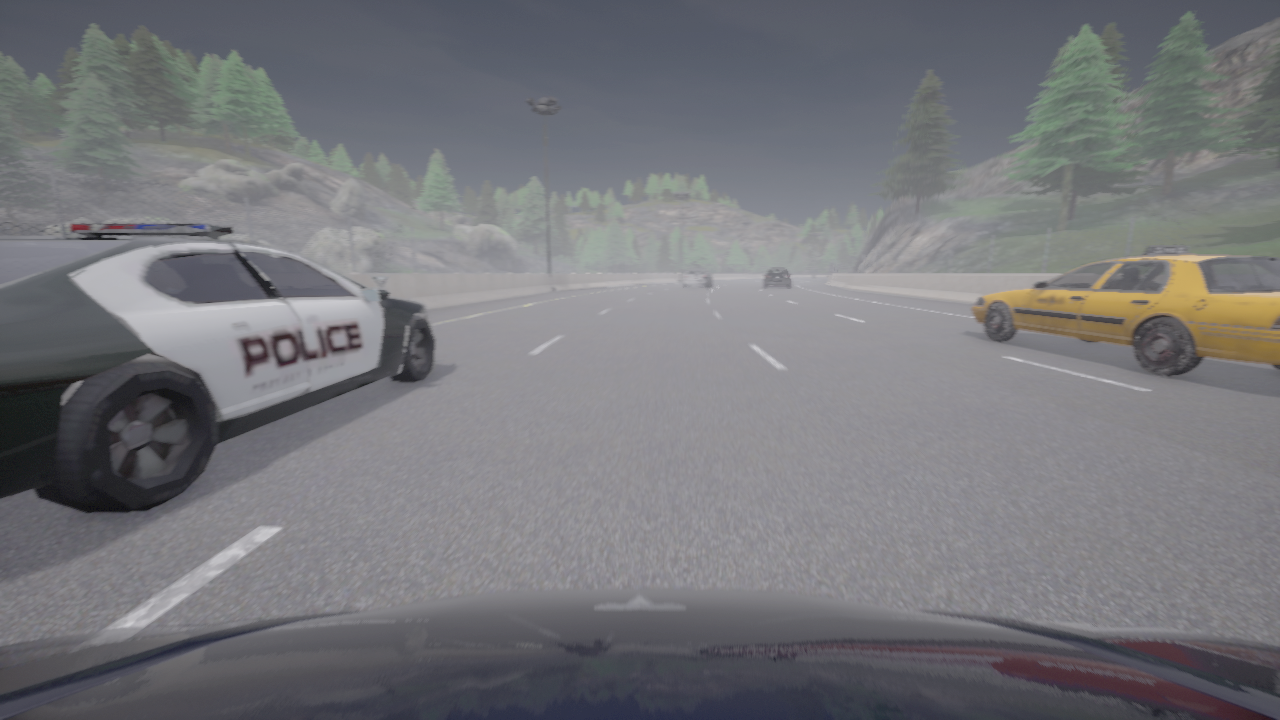cyclist: (0, 588, 1279, 719), (0, 223, 435, 512), (972, 245, 1279, 375), (683, 268, 711, 287), (764, 268, 790, 287)
